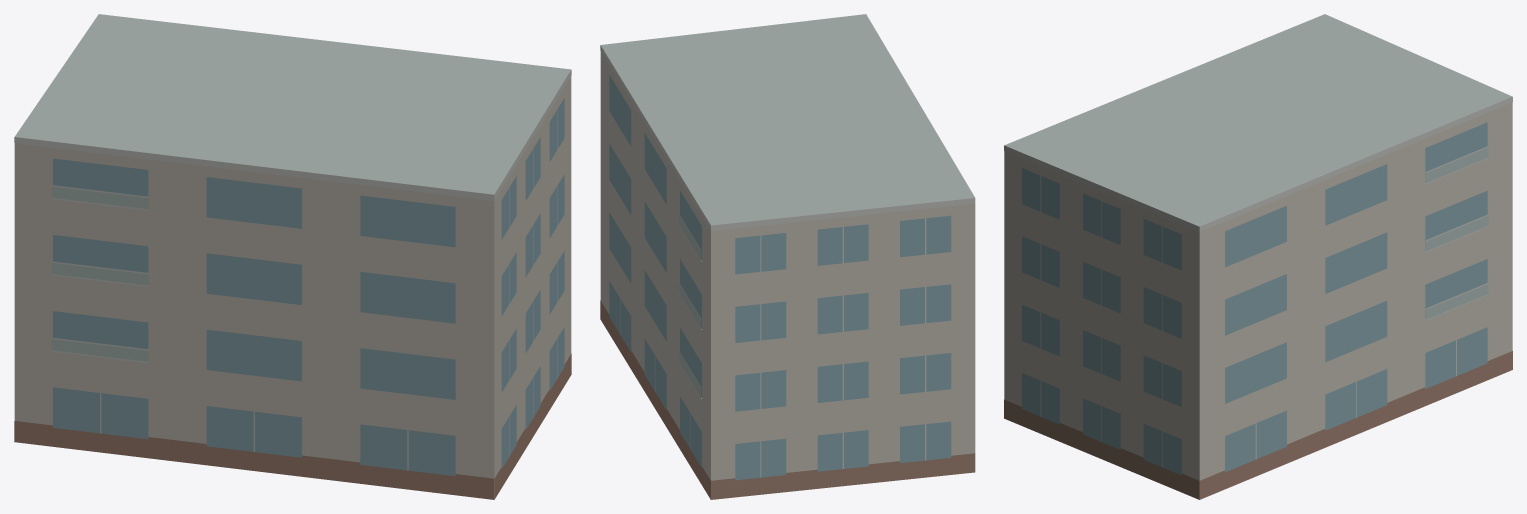
File: survey-upis-32814431.glb
3 views of the same model, side by side, from view 1: azimuth 30°, elevation 25°; view 2: azimuth 150°, elevation 25°; view 3: azimuth 270°, elevation 25° (orthographic). The views are drawn at different scales.
Visible parts, largest first — view 1: survey-upis-32814431.tmp; view 2: survey-upis-32814431.tmp; view 3: survey-upis-32814431.tmp.
Part boxes in pixels (x1=…): survey-upis-32814431.tmp: x1=14, y1=14, x2=571, y2=499; survey-upis-32814431.tmp: x1=600, y1=14, x2=975, y2=499; survey-upis-32814431.tmp: x1=1004, y1=14, x2=1512, y2=499.
Size of the model in its own units: 20.1 by 12.03 by 20.31.
